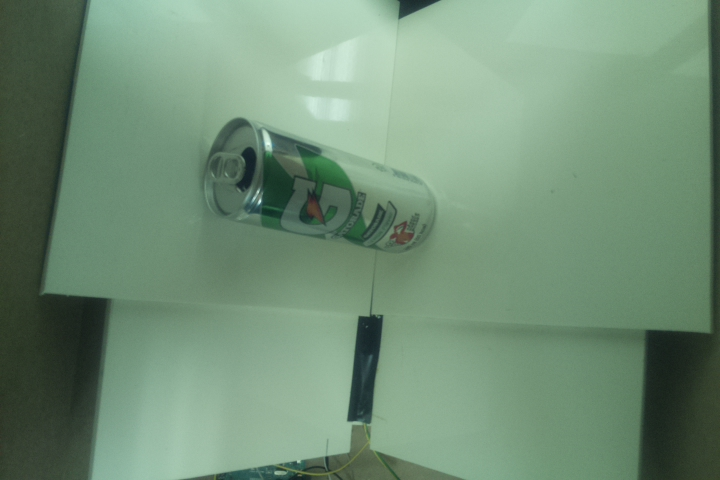can: (201, 117, 441, 259)
